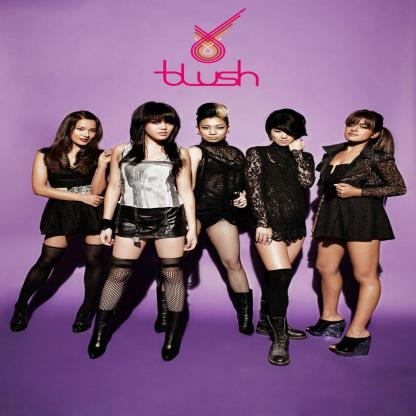face: (144, 114, 176, 141), (345, 118, 373, 143), (72, 122, 99, 147), (201, 119, 228, 144), (272, 122, 298, 147)
